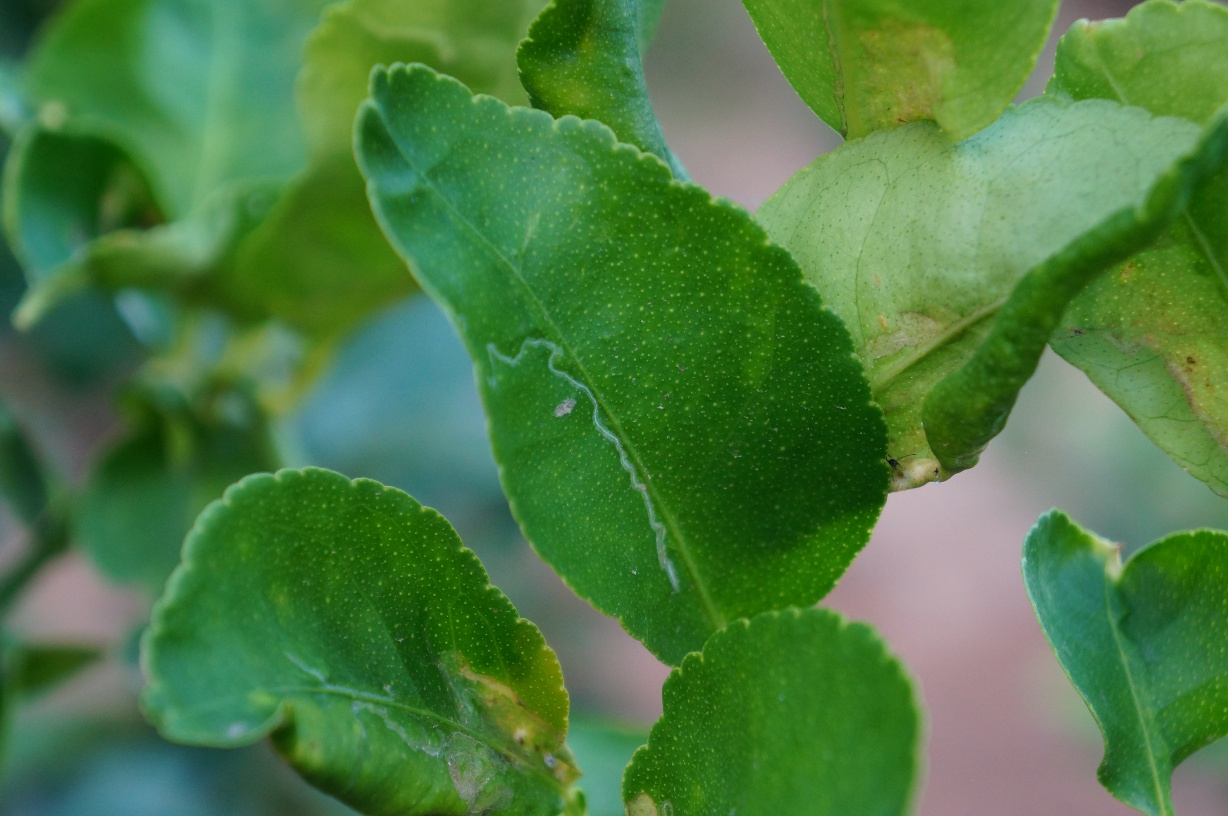damage: (486, 332, 688, 597), (270, 637, 583, 808)
